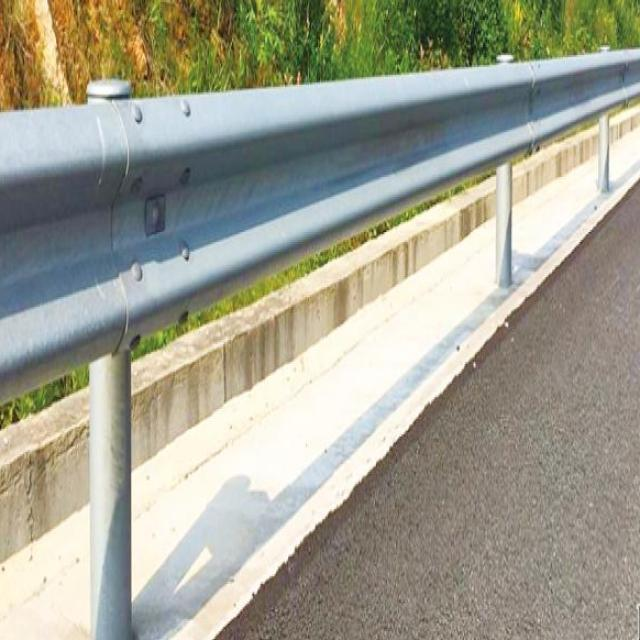Guard rail: (0, 49, 640, 397)
